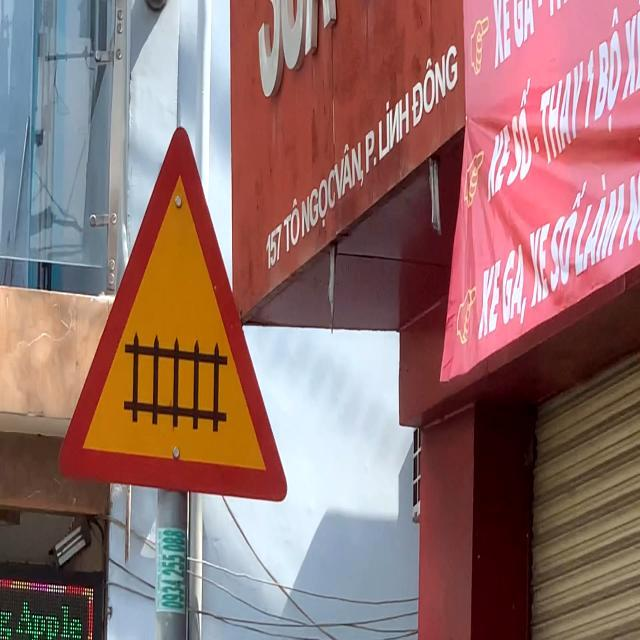Giao nhau voi duong sat co rao chan: (54, 121, 291, 506)
